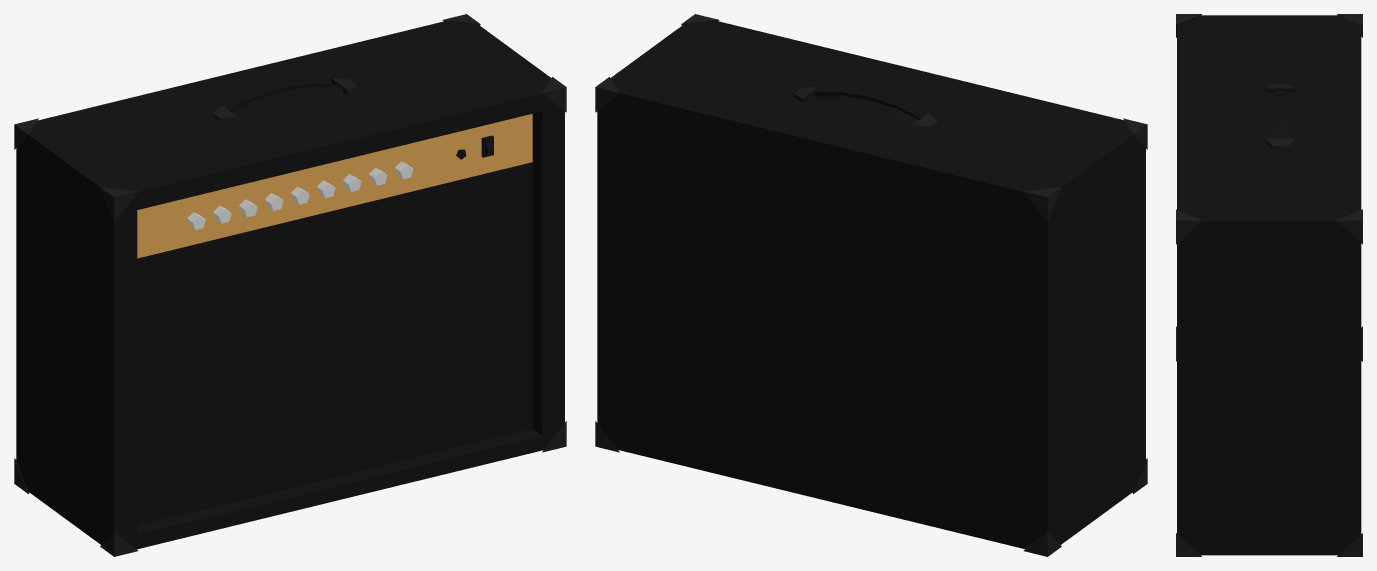
Rendered from PortableAmp.fbx.
The picture shows the model from 3 angles, left to right: view 1: azimuth 30°, elevation 25°; view 2: azimuth 150°, elevation 25°; view 3: azimuth 270°, elevation 25°; orthographic projection. The views are drawn at different scales.
Parts seen in each view (by area): view 1: PrortableAmp, CornerPads, Controls, Handle; view 2: PrortableAmp, CornerPads, Handle; view 3: PrortableAmp, CornerPads, Handle.
Boxes of the visible parts, x1,y1,x2,y2 form: PrortableAmp: (16, 21, 564, 549); CornerPads: (14, 14, 566, 556); Controls: (187, 135, 493, 229); Handle: (212, 78, 356, 121); PrortableAmp: (597, 21, 1145, 548); CornerPads: (595, 14, 1147, 556); Handle: (793, 87, 937, 130); PrortableAmp: (1177, 15, 1361, 555); CornerPads: (1176, 14, 1362, 556); Handle: (1265, 83, 1294, 149).
Bounding box in the file's own units: 66.3 × 51.84 × 25.35.
